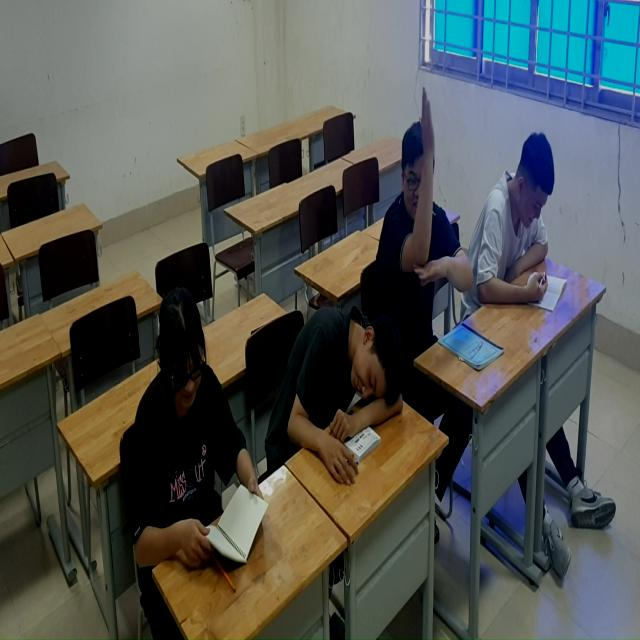raise_hand: (376, 85, 459, 363)
read: (127, 273, 269, 595), (475, 125, 569, 318)
sleep: (281, 289, 409, 492)
